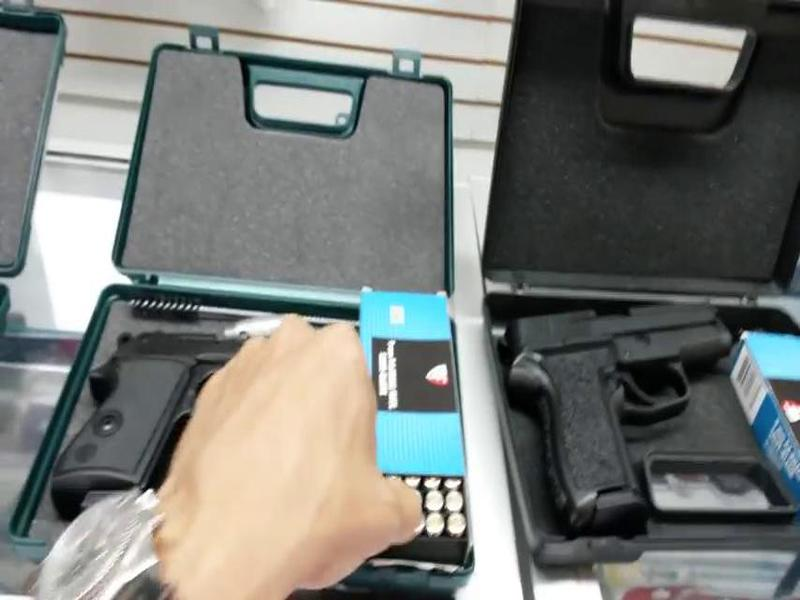Pistola: (507, 270, 750, 533)
